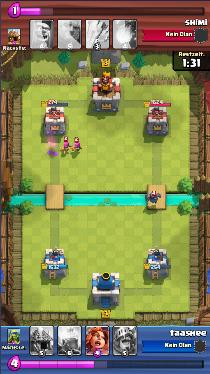EMiner: (70, 141, 82, 153), (60, 140, 70, 154)
OBat: (144, 192, 162, 204)
